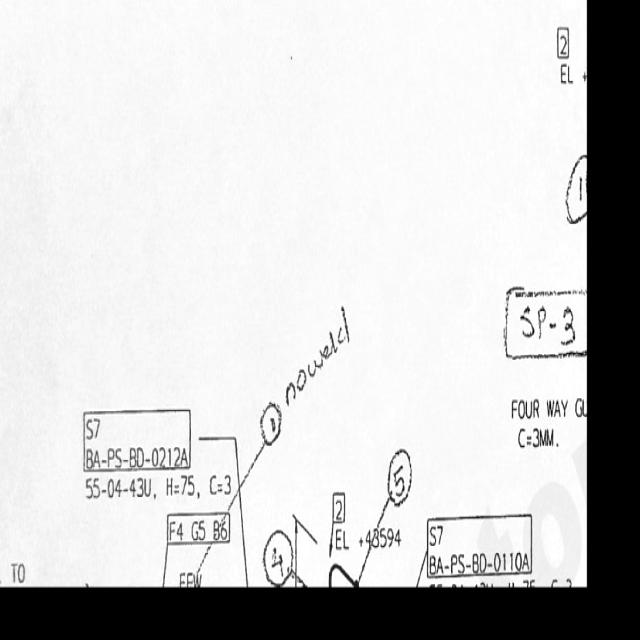Item number: (81, 404, 192, 474), (167, 509, 231, 549), (556, 23, 571, 60), (332, 489, 347, 524), (7, 559, 27, 585)
Measrement: (333, 523, 404, 556)
Symbol: (324, 558, 361, 587)
Weld number: (262, 522, 298, 584), (561, 149, 587, 230), (386, 444, 414, 509), (259, 400, 283, 450)
other: (83, 472, 232, 502), (509, 393, 586, 451)
